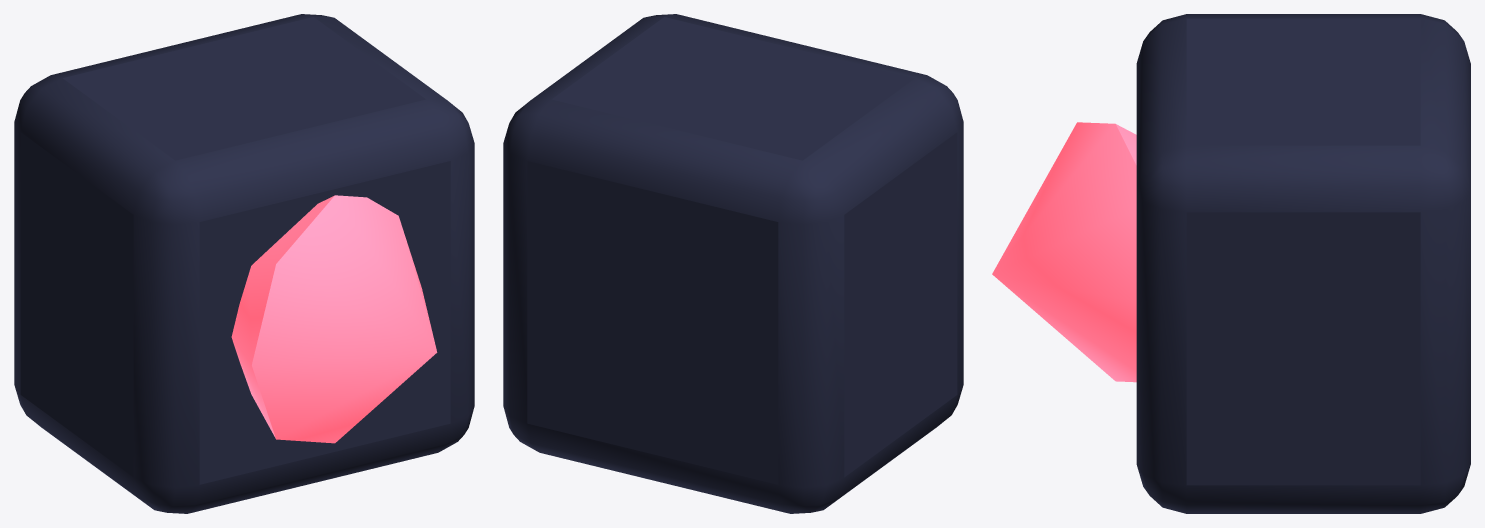
File: drahokam_2.glb
3 views of the same model, side by side, from view 1: azimuth 30°, elevation 25°; view 2: azimuth 150°, elevation 25°; view 3: azimuth 270°, elevation 25° (orthographic). The views are drawn at different scales.
Visible parts, largest first — view 1: drahokam_1_luzko, drahokam_1_m; view 2: drahokam_1_luzko; view 3: drahokam_1_luzko, drahokam_1_m.
Part boxes in pixels (bbox=[...]): drahokam_1_luzko: bbox=[14, 14, 474, 513]; drahokam_1_m: bbox=[231, 195, 437, 443]; drahokam_1_luzko: bbox=[503, 14, 963, 513]; drahokam_1_luzko: bbox=[1136, 14, 1470, 513]; drahokam_1_m: bbox=[992, 122, 1136, 382].
Size of the model in its own units: 0.96 by 0.96 by 1.15.
